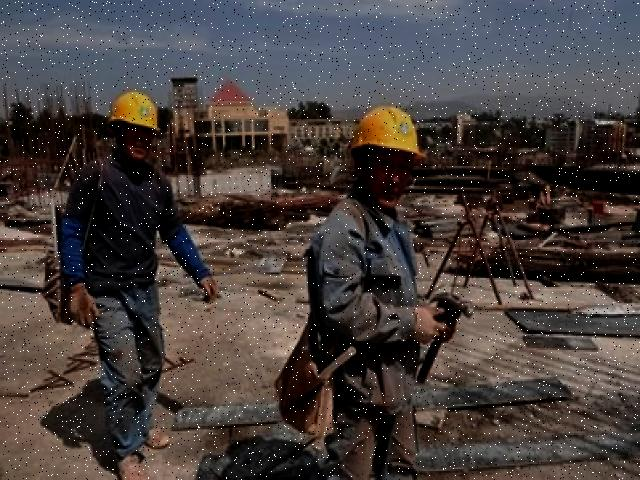Helmet: (345, 94, 431, 162), (108, 86, 167, 135)
